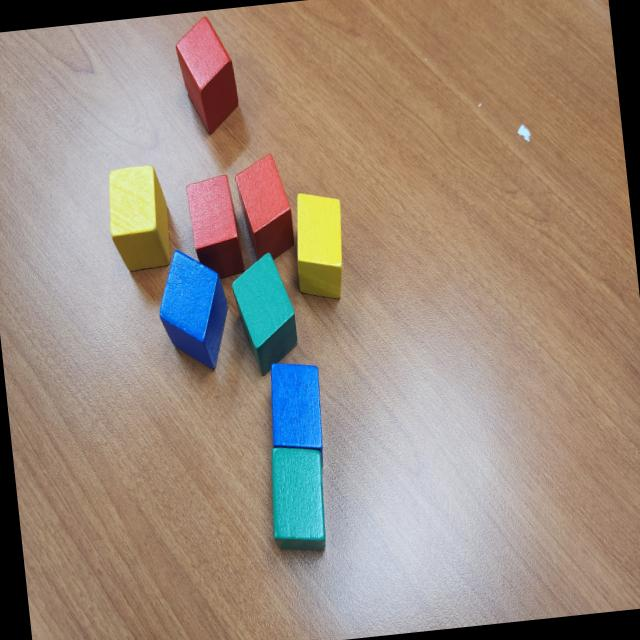blue: (152, 243, 235, 374), (264, 359, 326, 455)
green: (229, 250, 302, 378), (262, 441, 332, 556)
red: (173, 15, 243, 136), (232, 150, 296, 263), (185, 174, 243, 280)
yellow: (104, 162, 174, 274), (288, 188, 349, 302)
